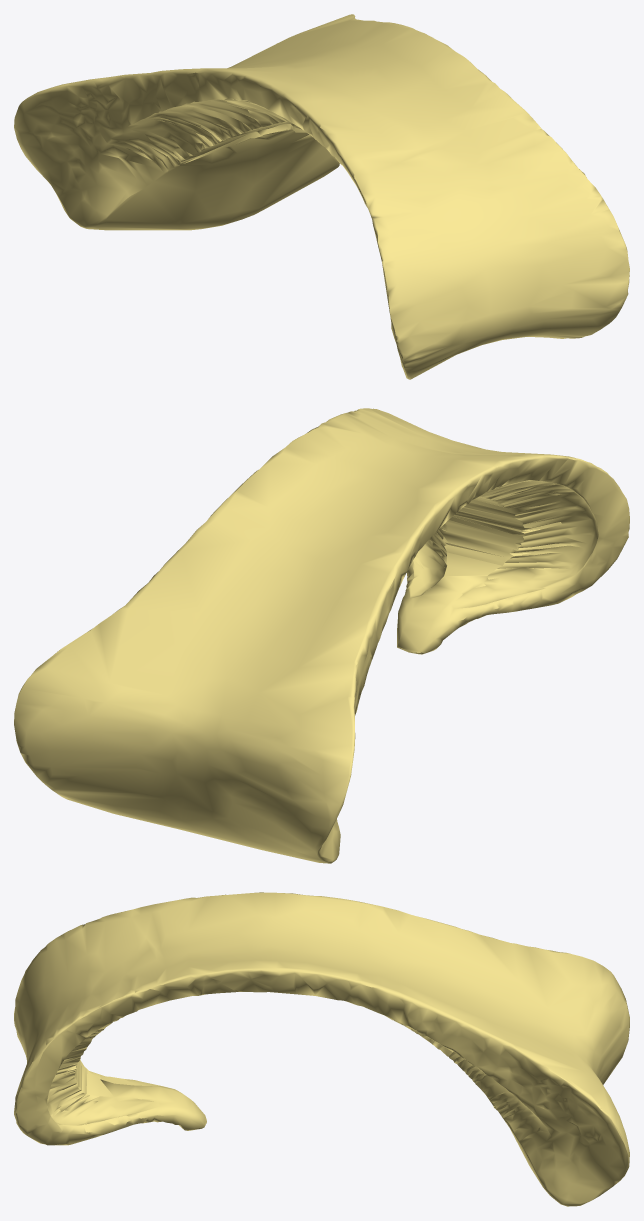
File: corpo-caloso.glb
3 views of the same model, one above another, from view 1: azimuth 30°, elevation 25°; view 2: azimuth 150°, elevation 25°; view 3: azimuth 270°, elevation 25° (orthographic). The views are drawn at different scales.
Parts seen in each view (by area): view 1: corpo-caloso; view 2: corpo-caloso; view 3: corpo-caloso.
Part boxes in pixels (box(x1,y1,x2,y2)): corpo-caloso: box(14, 14, 629, 379); corpo-caloso: box(14, 408, 629, 863); corpo-caloso: box(14, 892, 629, 1206).
Size of the model in its own units: 0.0517 by 0.0389 by 0.0916.
